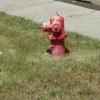Hydrant: (34, 7, 79, 65)
